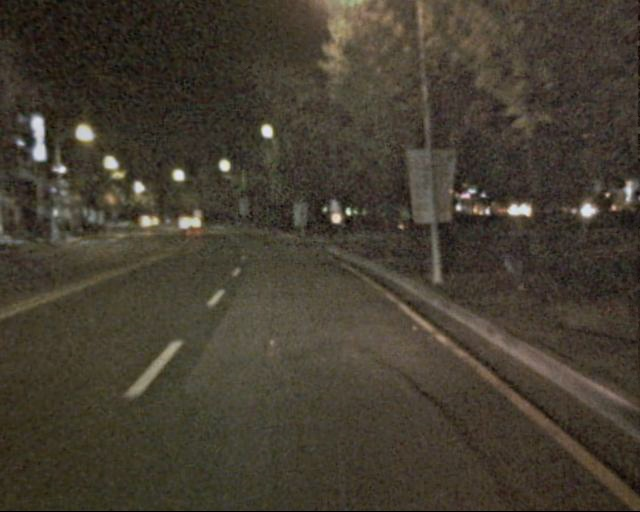person: (491, 214, 524, 295)
